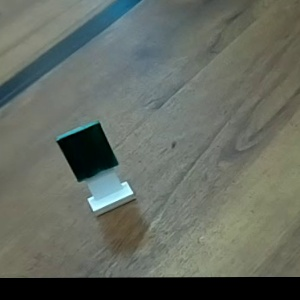rect: (39, 121, 153, 218)
